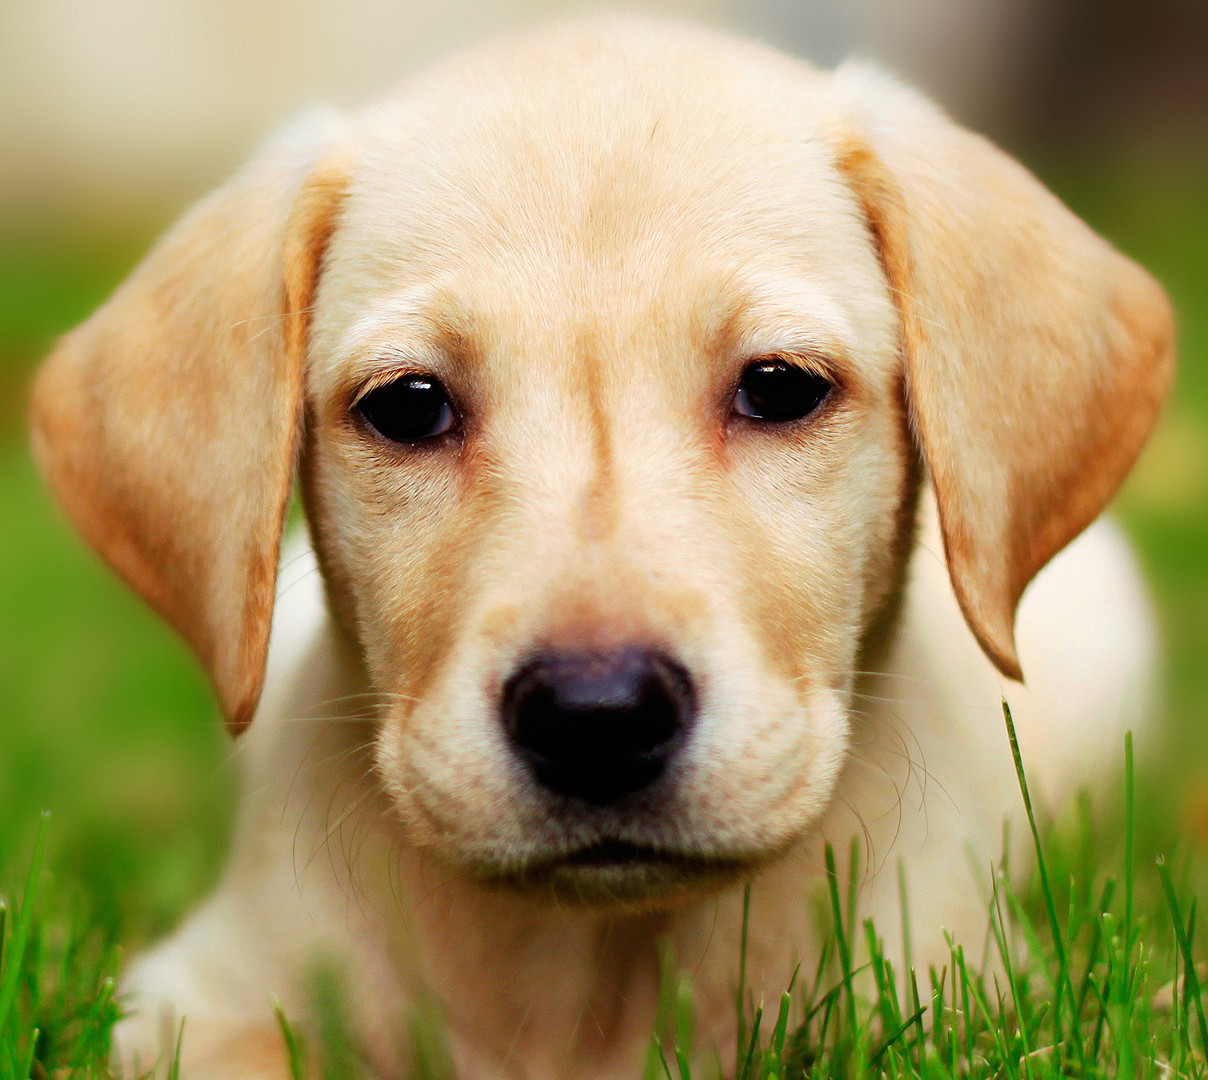dog: (0, 0, 1208, 1080)
